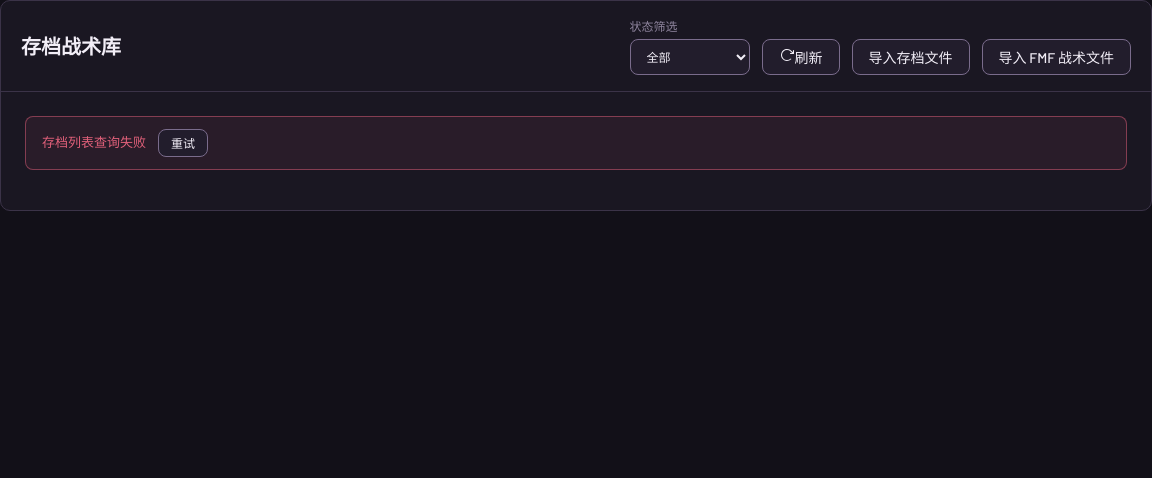
Test: LibraryPage › 列表加载失败时展示后端错误并可重试
Expected: the message shows "存档列表查询失败", [42, 134, 146, 150]
What coordinates should you click on to do the following:
click the button "重试"
I would click on:
 (183, 143)
Its box is [158, 129, 208, 157].
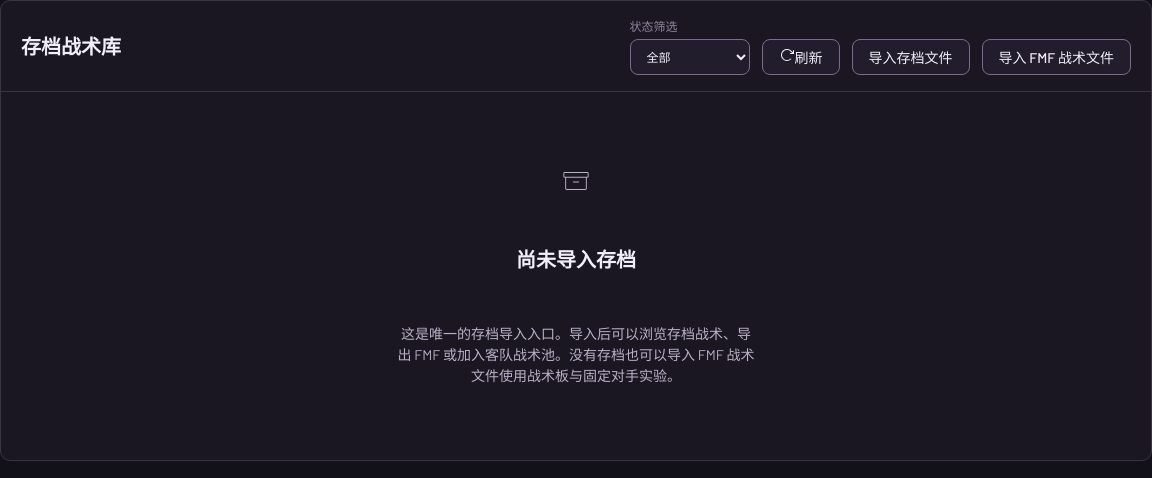
Expected: the heading "尚未导入存档" is shown, [516, 244, 636, 274]
